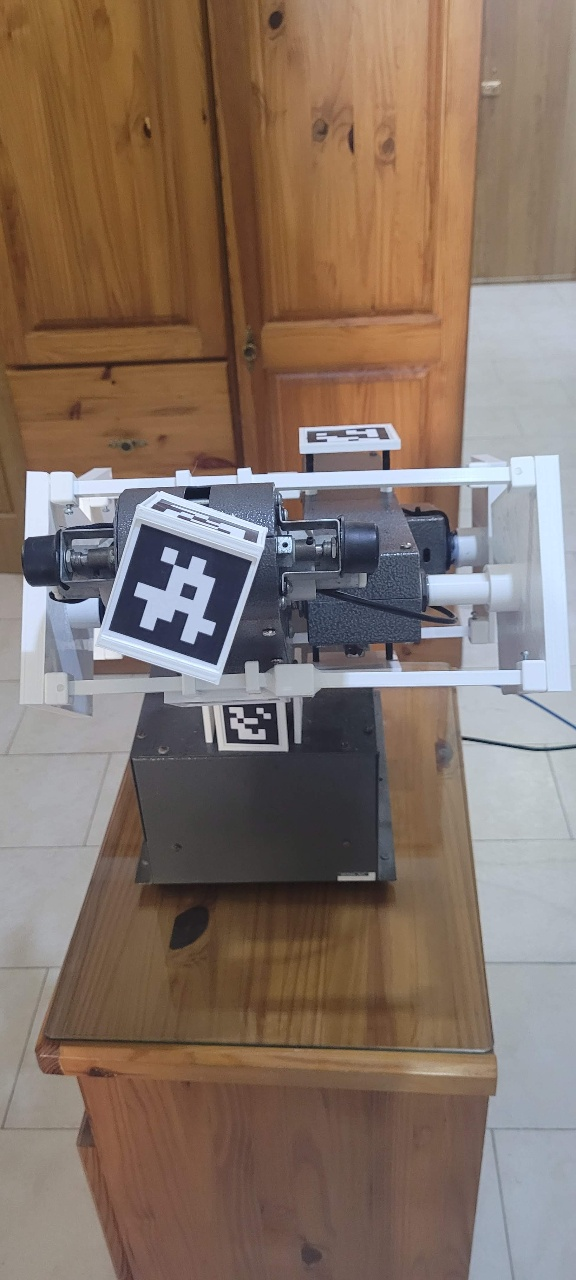Robot: (48, 162, 505, 1280)
